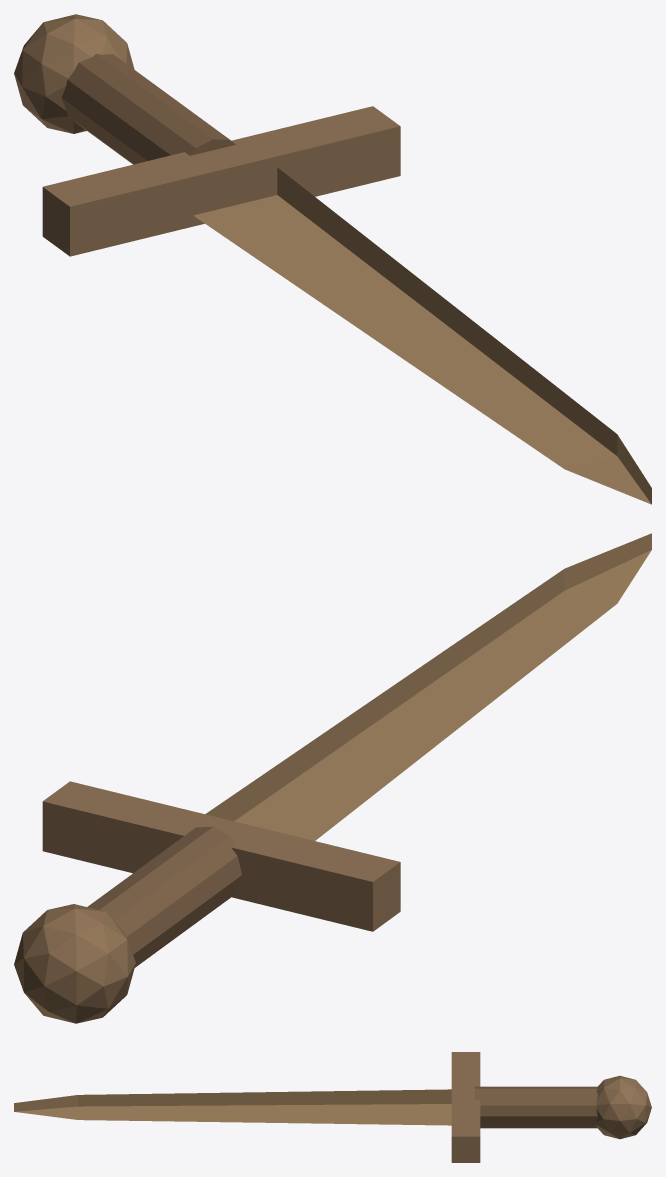
File: wooden_sword.glb
3 renders of one model, top to bottom at view 1: azimuth 30°, elevation 25°; view 2: azimuth 150°, elevation 25°; view 3: azimuth 270°, elevation 25°, orthographic. The views are drawn at different scales.
Visible parts, largest first — view 1: Blade, Guard, Handle, Pommel; view 2: Blade, Guard, Pommel, Handle; view 3: Blade, Handle, Guard, Pommel.
Boxes of the visible parts, x1,y1,x2,y2 form: Blade: (193,167,651,504); Guard: (42,106,400,256); Handle: (61,53,235,164); Pommel: (14,14,134,133); Blade: (205,533,651,840); Guard: (42,781,400,931); Pommel: (14,904,135,1023); Handle: (87,826,241,967); Blade: (14,1089,451,1125); Handle: (475,1086,597,1128); Guard: (451,1052,480,1162); Pommel: (596,1075,651,1139).
Bounding box in the file's own units: 1.25 × 0.4 × 3.98.
